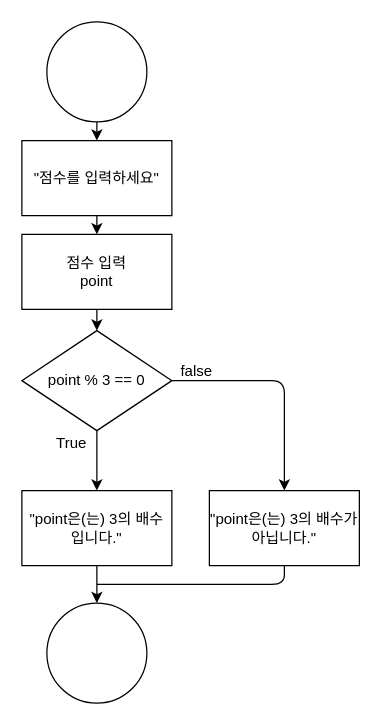
Some shapes in this 381 by 725 pixel diagram are drawn without their labels. Each missing label, with the centre of its shape:
end: the point at 96,652
Start: the point at 96,71
